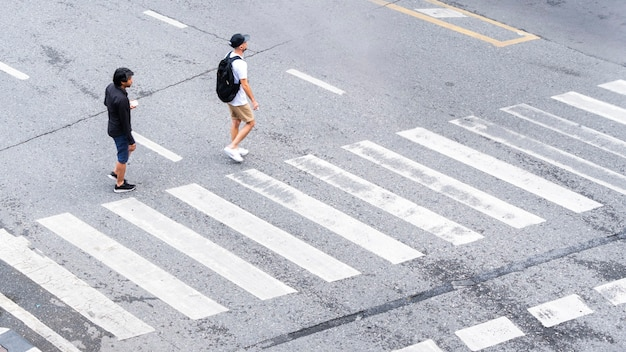person: (103, 67, 139, 194), (224, 37, 259, 163)
